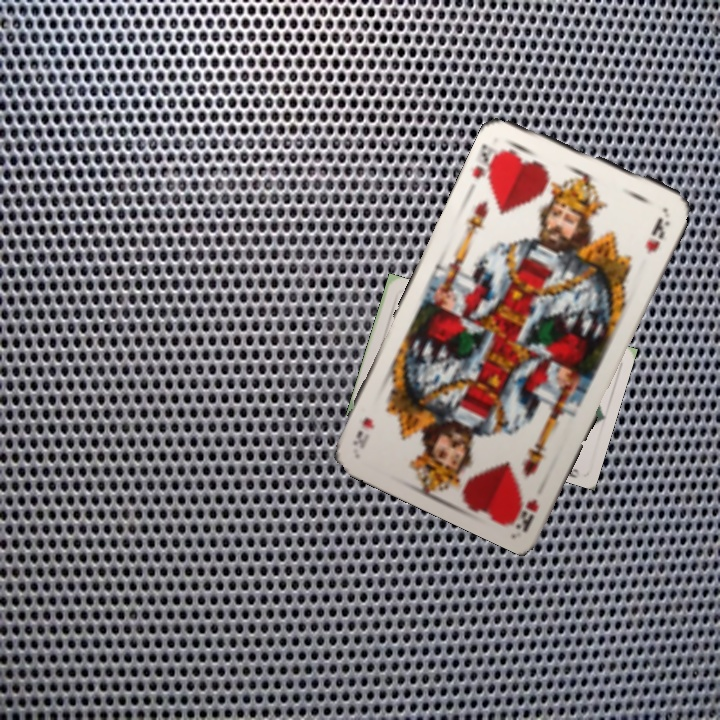HK: (467, 140, 508, 187), (510, 494, 542, 530)
